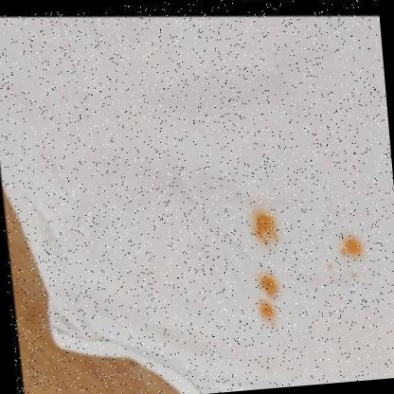kimchi: (241, 266, 291, 328), (250, 205, 284, 251), (334, 228, 372, 263), (321, 255, 345, 277), (351, 271, 360, 282)
